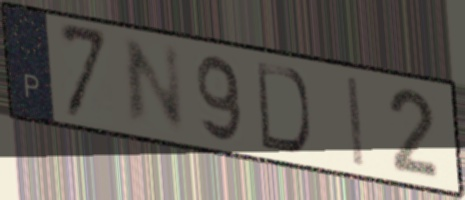2: (388, 87, 446, 182)
7: (58, 19, 112, 124)
9: (193, 52, 245, 145)
D: (253, 59, 314, 157)
I: (344, 73, 367, 171)
N: (121, 36, 189, 133)
